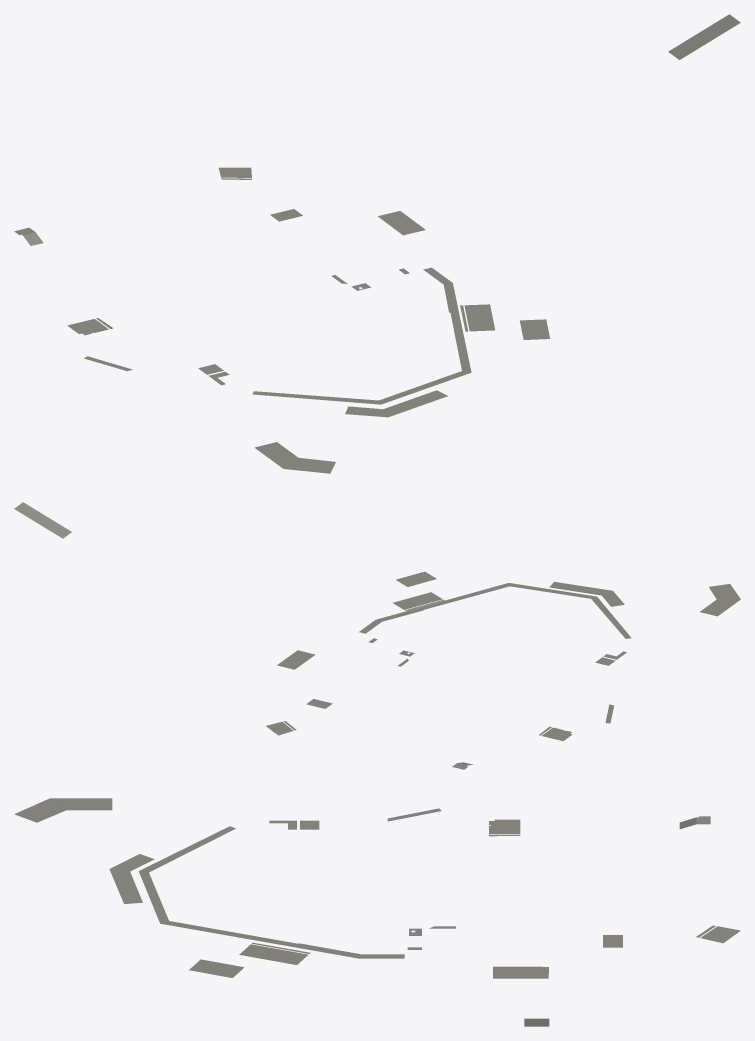
File: kd_stage_135ebf_1_21.glb
3 renders of one model, top to bottom at view 1: azimuth 30°, elevation 25°; view 2: azimuth 150°, elevation 25°; view 3: azimuth 270°, elevation 25°, orthographic. The views are drawn at different scales.
Parts seen in each view (by area): view 1: kd_stage_135ebf_1_21; view 2: kd_stage_135ebf_1_21; view 3: kd_stage_135ebf_1_21.
Part boxes in pixels (<box>): kd_stage_135ebf_1_21: <box>14,14,740,473</box>; kd_stage_135ebf_1_21: <box>14,502,740,769</box>; kd_stage_135ebf_1_21: <box>14,798,740,1026</box>.
Size of the model in its own units: 60.48 by 11.32 by 50.98.
Materials: 1 (1 with a texture image).
